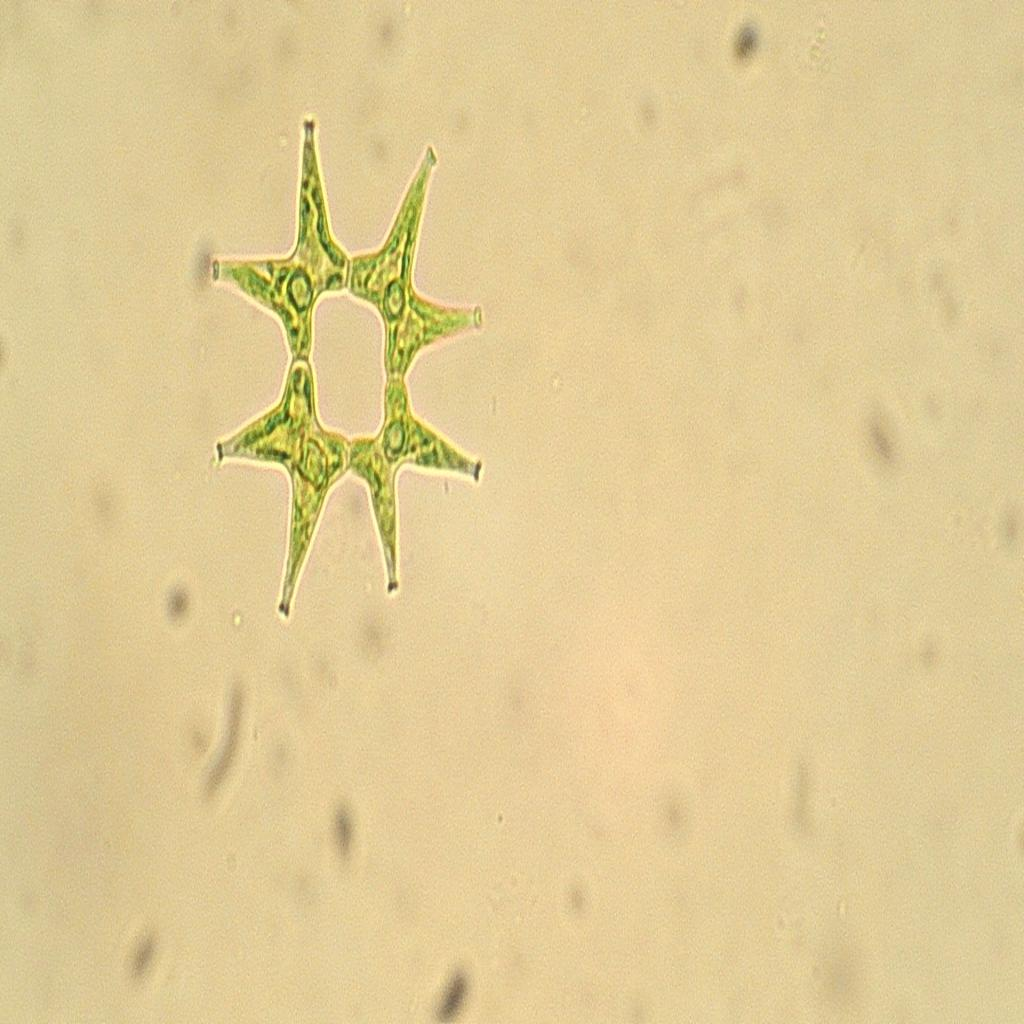Pediastrum_CO: (192, 96, 508, 625)
